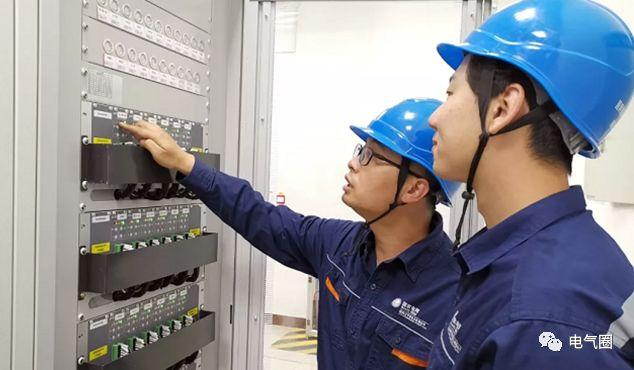helmet: (439, 1, 634, 154), (350, 101, 442, 176)
